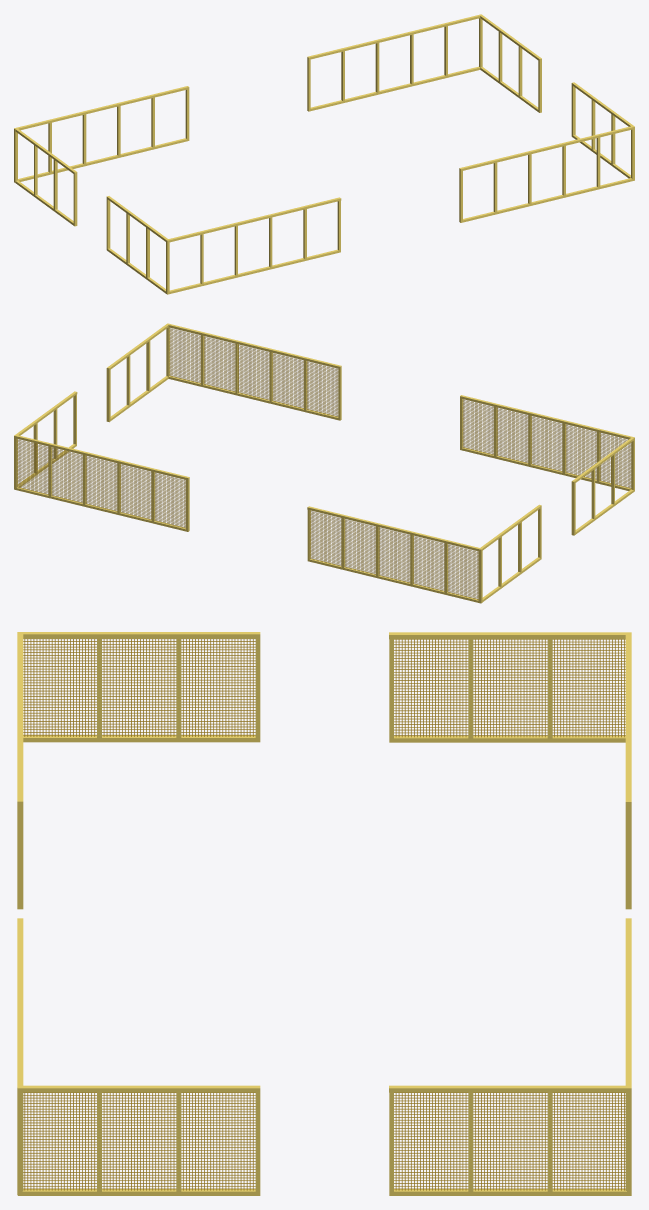
The model's file is fence.glb.
3 renders of one model, top to bottom at view 1: azimuth 30°, elevation 25°; view 2: azimuth 150°, elevation 25°; view 3: azimuth 270°, elevation 25°, orthographic. The views are drawn at different scales.
Visible parts, largest first — view 1: no part large enough to name; view 2: 平面.4 (×20); view 3: 平面.4 (×12).
Boxes of the visible parts, x1,y1,x2,y2 form: 平面.4 (×20): (17, 327, 631, 599); 平面.4 (×12): (23, 639, 625, 1190).
Bounding box in the file's own units: 899 × 98.95 × 511.
2 materials, 1 textured.
